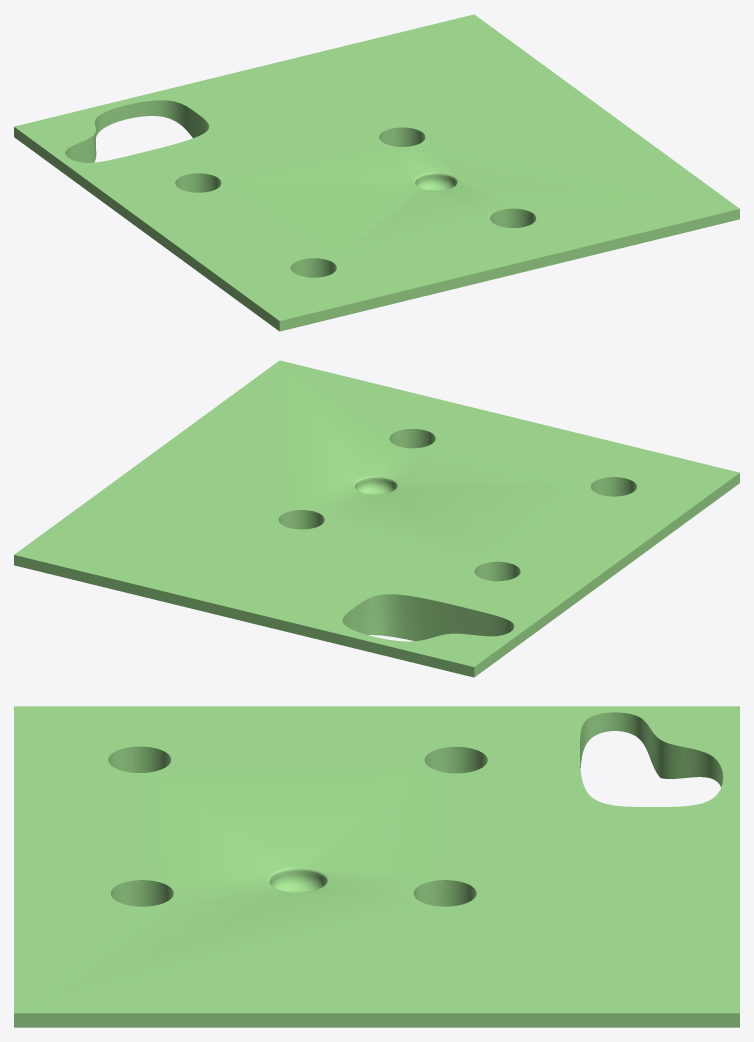
File: Floor.fbx
The picture shows the model from 3 angles, top to bottom: view 1: azimuth 30°, elevation 25°; view 2: azimuth 150°, elevation 25°; view 3: azimuth 270°, elevation 25°; orthographic projection. The views are drawn at different scales.
Visible parts, largest first — view 1: Floor; view 2: Floor; view 3: Floor.
Boxes of the visible parts, x1=… form: Floor: x1=14, y1=14, x2=739, y2=331; Floor: x1=14, y1=360, x2=739, y2=677; Floor: x1=14, y1=706, x2=739, y2=1027.
Bounding box in the file's own units: 2300 × 350 × 2300.
